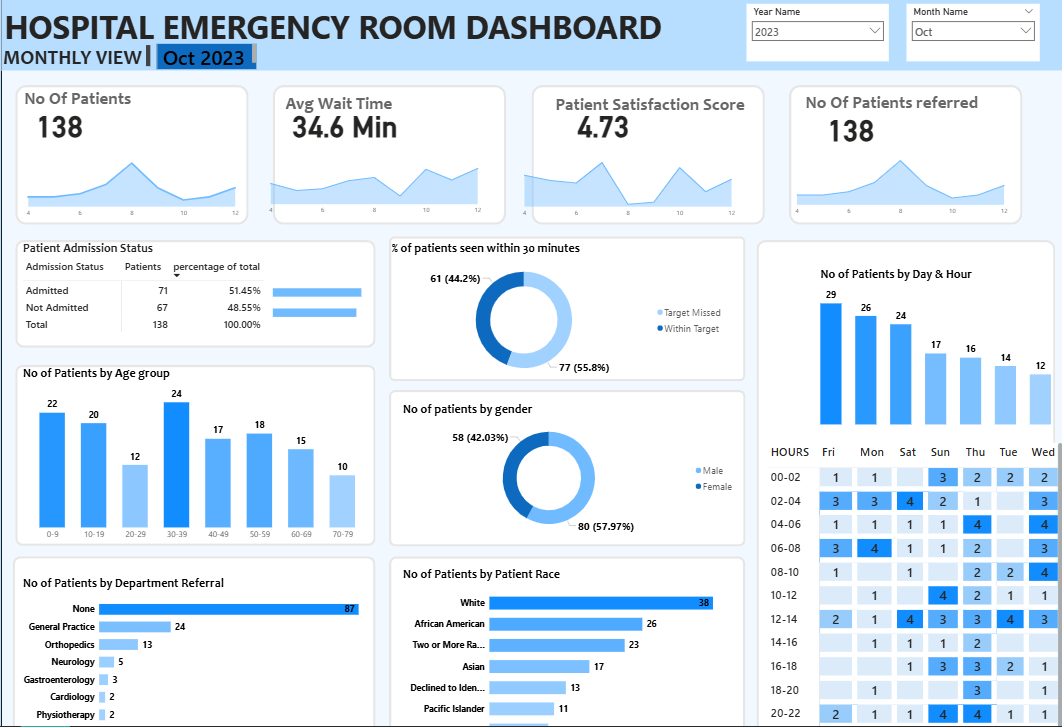

What the dashboard file says about the page in this screenshot:
{"tool":"powerbi","page":{"name":"Page 1","canvas":[2300,1400],"ordinal":0},"visuals":[{"type":"shape","box":[9.9,0,310.7,1400.5],"z":0},{"type":"shape","box":[320.5,0,1980,140.5],"z":1000},{"type":"textbox","box":[320.5,14.8,1289.6,113.4],"z":2000},{"type":"textbox","box":[319.7,88.3,283.9,52.5],"z":3000},{"type":"shape","box":[345.9,167,434.2,260.1],"z":4000},{"type":"cardVisual","fields":{"Data":["Hospital ER_Data.No of Patients"]},"box":[367.5,187.5,130,105],"z":5000},{"type":"slicer","fields":{"Values":["Data Table.Year Name"]},"box":[1705.9,16.7,264.8,107.4],"z":6000},{"type":"slicer","fields":{"Values":["Data Table.Month Name"]},"box":[2004.1,16.7,248.1,107.4],"z":7000},{"type":"textbox","box":[357.9,167,281.5,74],"z":8000},{"type":"areaChart","fields":{"Category":["Data Table.Date.Variation.Date Hierarchy.Day"],"Y":["Hospital ER_Data.No of Patients"]},"box":[355,292.5,415,130],"z":9000},{"type":"multiRowCard","fields":{"Values":["Data Table.Month & Year"]},"box":[603.6,85.9,195.6,57.3],"z":10000},{"type":"shape","box":[826.3,167,434.2,260.1],"z":11000},{"type":"cardVisual","fields":{"Data":["Hospital ER_Data.Avg Wait Time"]},"box":[844.6,188.5,252.9,105],"z":12000},{"type":"textbox","box":[844.6,176.6,281.5,74],"z":13000},{"type":"areaChart","fields":{"Y":["Avg(Hospital ER_Data.Patient Waittime)"],"Category":["Data Table.Date.Variation.Date Hierarchy.Day"]},"box":[807.8,289.1,415,130],"z":14000},{"type":"shape","box":[1787,167,434.2,260.1],"z":15000},{"type":"cardVisual","fields":{"Data":["Hospital ER_Data.No of patients Referred"]},"box":[1839.5,195.6,131.2,105],"z":16000},{"type":"textbox","box":[1810.8,174.2,353.1,74],"z":17000},{"type":"areaChart","fields":{"Category":["Data Table.Date.Variation.Date Hierarchy.Day"],"Y":["Hospital ER_Data.No of patients Referred"]},"box":[1787,288.7,415.1,131.2],"z":18000},{"type":"shape","box":[1306.6,167,434.2,260.1],"z":19000},{"type":"cardVisual","fields":{"Data":["Hospital ER_Data.Satisfaction Score"]},"box":[1374.2,188.5,150.3,105],"z":20000},{"type":"shape","box":[345.9,455.7,670.4,200.4],"z":21000},{"type":"textbox","box":[1345.6,178.9,379.3,74],"z":22000},{"type":"areaChart","fields":{"Category":["Data Table.Date.Variation.Date Hierarchy.Day"],"Y":["Hospital ER_Data.Satisfaction Score"]},"box":[1278.3,292,415,130],"z":23000},{"type":"pivotTable","title":"Patient Admission Status","fields":{"Rows":["Hospital ER_Data.Admission Status"],"Values":["Hospital ER_Data.No of Patients1","Hospital ER_Data.No of Patients"]},"box":[355.5,455.7,660.9,193.3],"z":24000},{"type":"barChart","fields":{"Category":["Hospital ER_Data.Admission Status"],"Y":["Hospital ER_Data.No of Patients"]},"box":[820.7,513,195.6,112.1],"z":25000},{"type":"shape","box":[345.9,689.5,670.4,336.4],"z":26000},{"type":"clusteredColumnChart","fields":{"Category":["Hospital ER_Data.Age group"],"Y":["Hospital ER_Data.No of Patients"]},"box":[355.5,689.5,660.9,336.4],"z":27000},{"type":"shape","box":[341.2,1045,675.2,355.5],"z":28000},{"type":"shape","box":[1042.6,448.5,663.3,269.6],"z":29000},{"type":"shape","box":[1042.6,734.8,663.3,291.1],"z":30000},{"type":"donutChart","title":"% of patients seen within 30 minutes","fields":{"Category":["Hospital ER_Data.Waittime Status"],"Y":["Hospital ER_Data.No of Patients"]},"box":[1042.6,455.7,632.2,269.6],"z":31000},{"type":"donutChart","title":"No of patients by gender ","fields":{"Y":["Hospital ER_Data.No of Patients"],"Category":["Hospital ER_Data.Patient Gender"]},"box":[1061.7,756.3,632.2,257.7],"z":32000},{"type":"clusteredBarChart","fields":{"Category":["Hospital ER_Data.Department Referral"],"Y":["Hospital ER_Data.No of Patients"]},"box":[355.5,1078.4,660.9,322.1],"z":33000},{"type":"shape","box":[1042.6,1045,663.3,355.5],"z":34000},{"type":"clusteredBarChart","fields":{"Y":["Hospital ER_Data.No of Patients"],"Category":["Hospital ER_Data.Patient Race"]},"box":[1061.7,1061.7,613.2,338.8],"z":35000},{"type":"shape","box":[1725,455.7,555.9,944.8],"z":36000},{"type":"pivotTable","fields":{"Columns":["Data Table.Day Name"],"Values":["Hospital ER_Data.No of Patients"],"Rows":["Hospital ER_Data.Waittime Interval"]},"box":[1741.7,827.9,558.3,572.6],"z":37000},{"type":"columnChart","title":"No of Patients by Day & Hour","fields":{"Category":["Data Table.Day Name"],"Y":["Hospital ER_Data.No of Patients"]},"box":[1839.5,505.8,441.4,300.6],"z":38000}]}

Visuals, with their boxes on the page's 2300x1400 design canvas (x1, y1, x2, y2). These are canvas units, not pixel positions in the 1062x727 screenshot, which may show the page scaled, cropped or inside an application window:
shape: (10, 0, 321, 1400)
shape: (320, 0, 2300, 140)
textbox: (320, 15, 1610, 128)
textbox: (320, 88, 604, 141)
shape: (346, 167, 780, 427)
cardVisual - Hospital ER_Data.No of Patients: (368, 188, 498, 292)
slicer - Data Table.Year Name: (1706, 17, 1971, 124)
slicer - Data Table.Month Name: (2004, 17, 2252, 124)
textbox: (358, 167, 639, 241)
areaChart - Data Table.Date.Variation.Date Hierarchy.Day x Hospital ER_Data.No of Patients: (355, 292, 770, 422)
multiRowCard - Data Table.Month & Year: (604, 86, 799, 143)
shape: (826, 167, 1260, 427)
cardVisual - Hospital ER_Data.Avg Wait Time: (845, 188, 1098, 294)
textbox: (845, 177, 1126, 251)
areaChart - Avg(Hospital ER_Data.Patient Waittime) x Data Table.Date.Variation.Date Hierarchy.Day: (808, 289, 1223, 419)
shape: (1787, 167, 2221, 427)
cardVisual - Hospital ER_Data.No of patients Referred: (1840, 196, 1971, 301)
textbox: (1811, 174, 2164, 248)
areaChart - Data Table.Date.Variation.Date Hierarchy.Day x Hospital ER_Data.No of patients Referred: (1787, 289, 2202, 420)
shape: (1307, 167, 1741, 427)
cardVisual - Hospital ER_Data.Satisfaction Score: (1374, 188, 1524, 294)
shape: (346, 456, 1016, 656)
textbox: (1346, 179, 1725, 253)
areaChart - Data Table.Date.Variation.Date Hierarchy.Day x Hospital ER_Data.Satisfaction Score: (1278, 292, 1693, 422)
"Patient Admission Status" pivotTable: (356, 456, 1016, 649)
barChart - Hospital ER_Data.Admission Status x Hospital ER_Data.No of Patients: (821, 513, 1016, 625)
shape: (346, 690, 1016, 1026)
clusteredColumnChart - Hospital ER_Data.Age group x Hospital ER_Data.No of Patients: (356, 690, 1016, 1026)
shape: (341, 1045, 1016, 1400)
shape: (1043, 448, 1706, 718)
shape: (1043, 735, 1706, 1026)
"% of patients seen within 30 minutes" donutChart: (1043, 456, 1675, 725)
"No of patients by gender " donutChart: (1062, 756, 1694, 1014)
clusteredBarChart - Hospital ER_Data.Department Referral x Hospital ER_Data.No of Patients: (356, 1078, 1016, 1400)
shape: (1043, 1045, 1706, 1400)
clusteredBarChart - Hospital ER_Data.No of Patients x Hospital ER_Data.Patient Race: (1062, 1062, 1675, 1400)
shape: (1725, 456, 2281, 1400)
pivotTable - Data Table.Day Name x Hospital ER_Data.No of Patients: (1742, 828, 2300, 1400)
"No of Patients by Day & Hour" columnChart: (1840, 506, 2281, 806)
